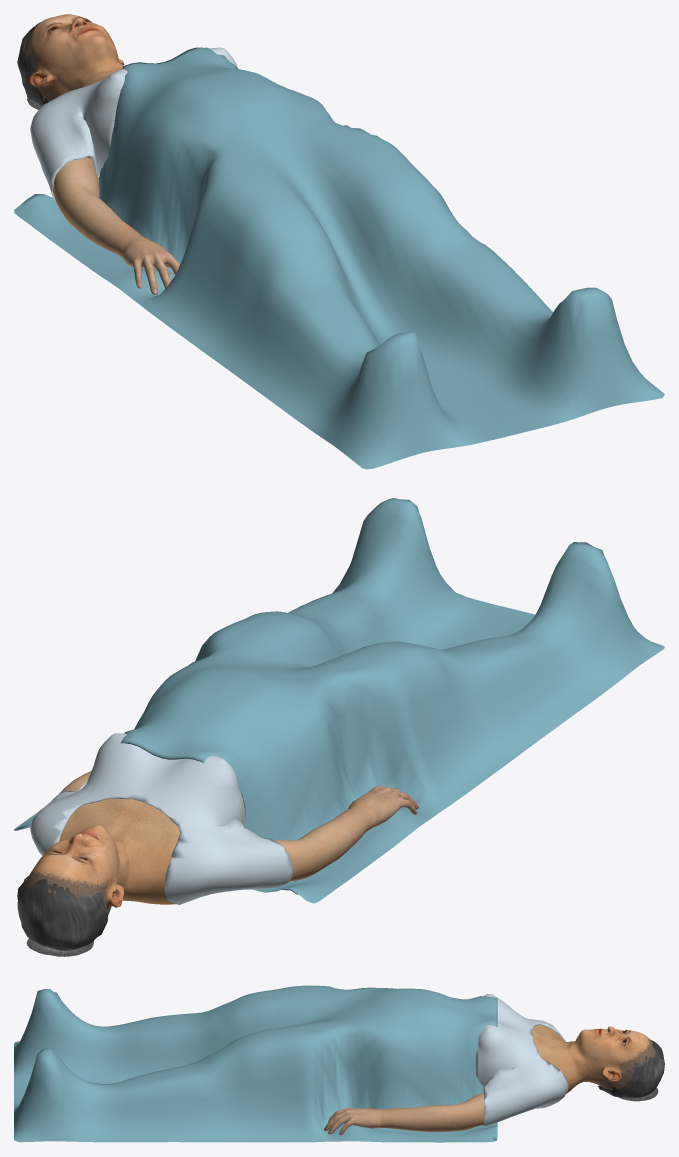
3 renders of one model, top to bottom at view 1: azimuth 30°, elevation 25°; view 2: azimuth 150°, elevation 25°; view 3: azimuth 270°, elevation 25°, orthographic. The views are drawn at different scales.
Visible parts, largest first — view 1: sheet, gown, arms, body, hair; view 2: sheet, gown, body, hair, arms; view 3: sheet, gown, body, arms, hair.
Boxes of the visible parts, x1,y1,x2,y2 form: sheet: (14, 47, 664, 469); gown: (30, 47, 237, 201); arms: (52, 157, 179, 294); body: (24, 14, 124, 101); hair: (17, 22, 48, 109); sheet: (14, 498, 664, 903); gown: (30, 733, 292, 904); body: (25, 798, 179, 916); hair: (17, 876, 107, 956); arms: (60, 771, 418, 881); sheet: (14, 985, 497, 1142); gown: (475, 994, 568, 1126); body: (532, 1025, 654, 1093); arms: (323, 1093, 484, 1135); hair: (597, 1040, 664, 1101).
Bounding box in the file's own units: 0.6377 × 0.2798 × 1.74.
8 materials, 6 textured.
